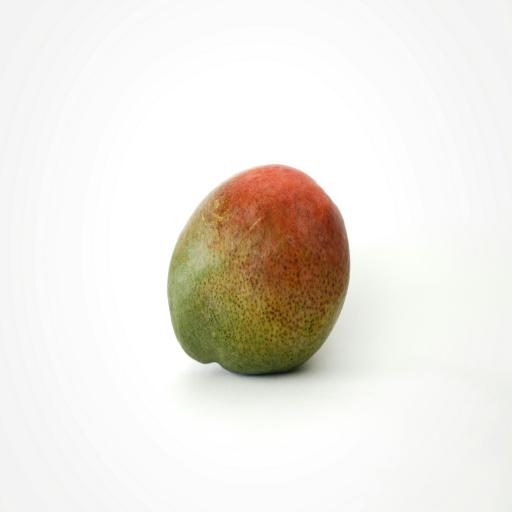Mango-Detection: (126, 108, 386, 435)
